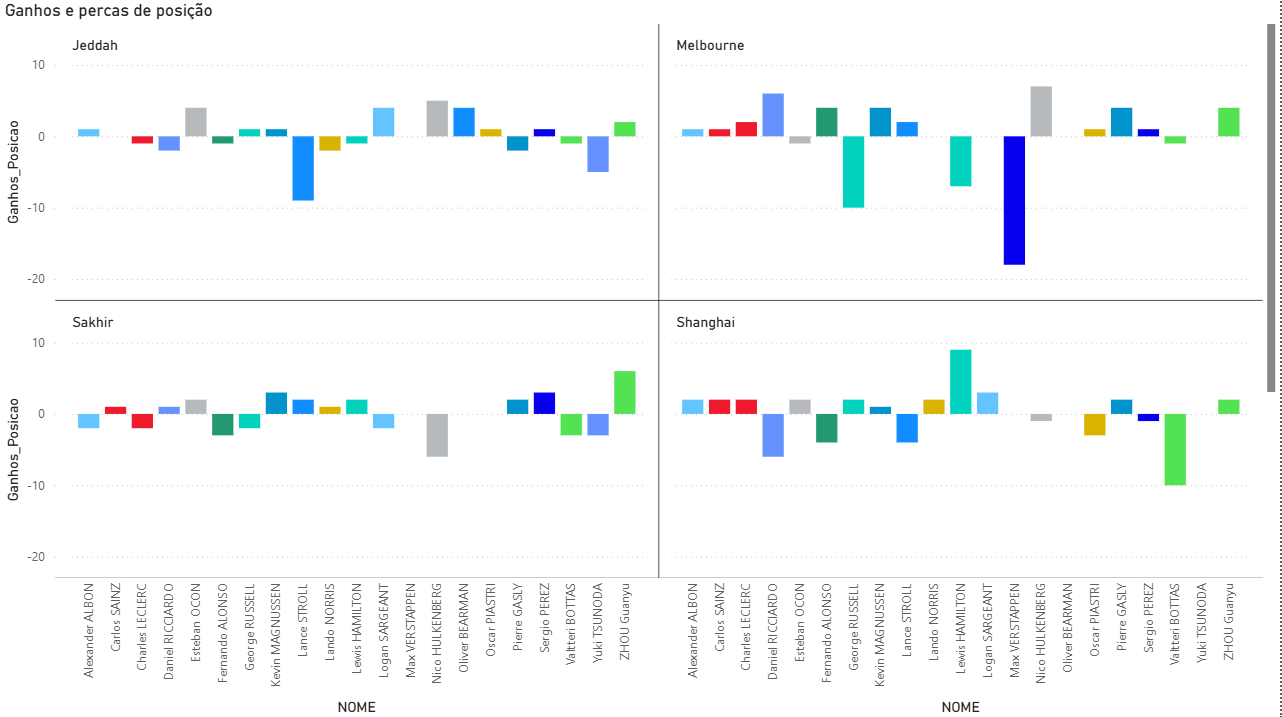

What the dashboard file says about the page in this screenshot:
{"tool":"powerbi","page":{"name":"Página 2","canvas":[1280,720],"ordinal":1},"visuals":[{"type":"clusteredColumnChart","title":"Ganhos e percas de posição","fields":{"Y":["INFORMACAO_GERAL.Ganhos_Posicao"],"Category":["INFORMACAO_GERAL.NOME"],"Rows":["INFORMACAO_GERAL.NOME_CIRCUITO"]},"box":[0,0,1280.3,720.2],"z":0}]}

Visuals, with their boxes in screenshot pixels (x1, y1, x2, y2), scaled from the page's 1280x720 canvas onto the 1282x717 screenshot:
"Ganhos e percas de posição" clusteredColumnChart: <region>0, 0, 1281, 716</region>
